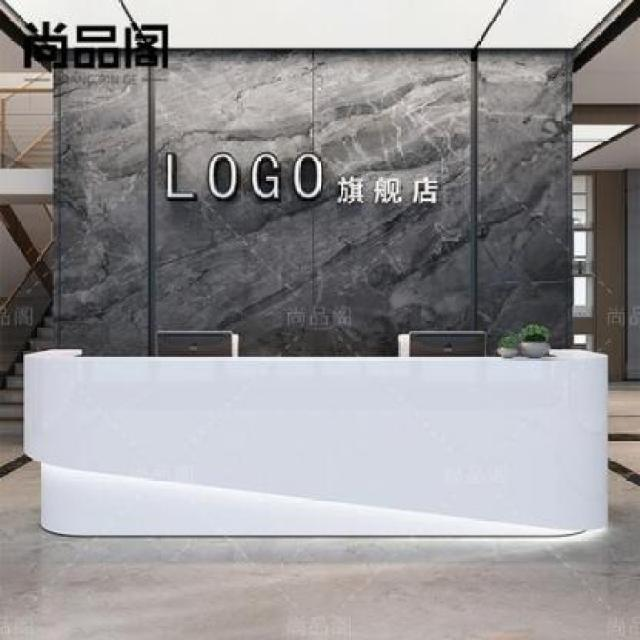frontdesk: (20, 331, 613, 548)
